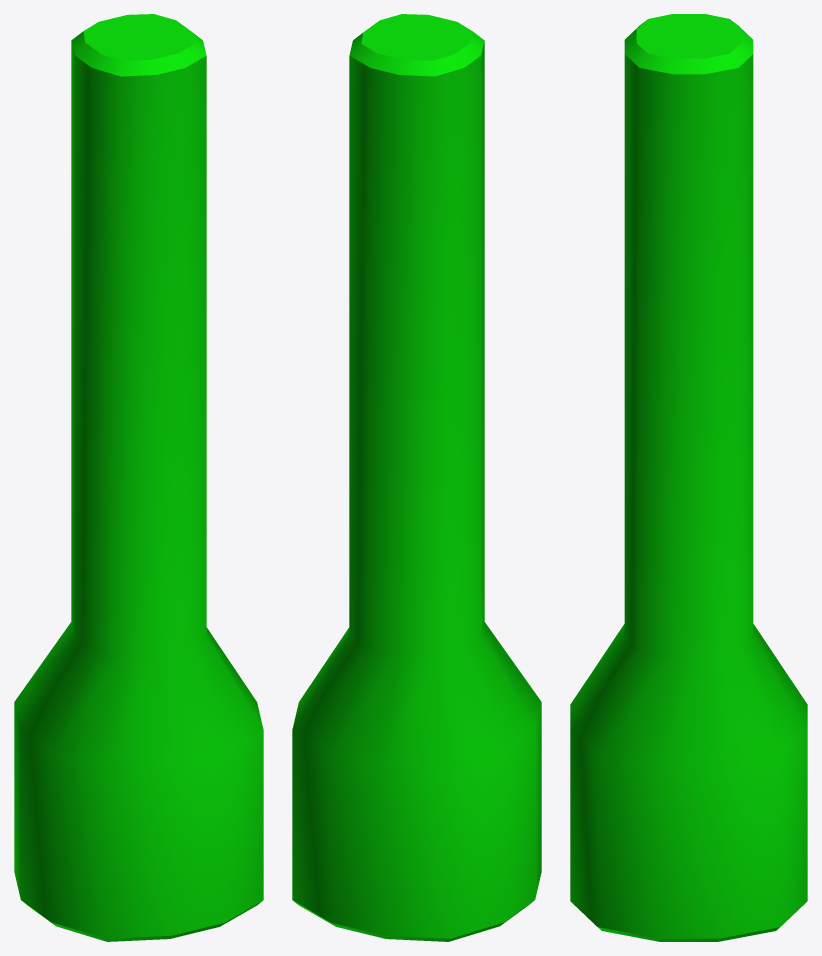
Rendered from greenFlashlight.fbx.
The picture shows the model from 3 angles, left to right: view 1: azimuth 30°, elevation 25°; view 2: azimuth 150°, elevation 25°; view 3: azimuth 270°, elevation 25°; orthographic projection.
Parts seen in each view (by area): view 1: greenFlashlight1; view 2: greenFlashlight1; view 3: greenFlashlight1.
Boxes of the visible parts, x1,y1,x2,y2 form: greenFlashlight1: (14,14,263,941); greenFlashlight1: (292,14,541,941); greenFlashlight1: (570,14,807,941).
Bounding box in the file's own units: 0.1136 × 0.4506 × 0.1131.
